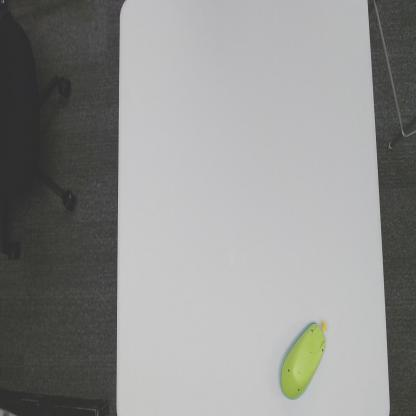Boat: (276, 314, 332, 409)
